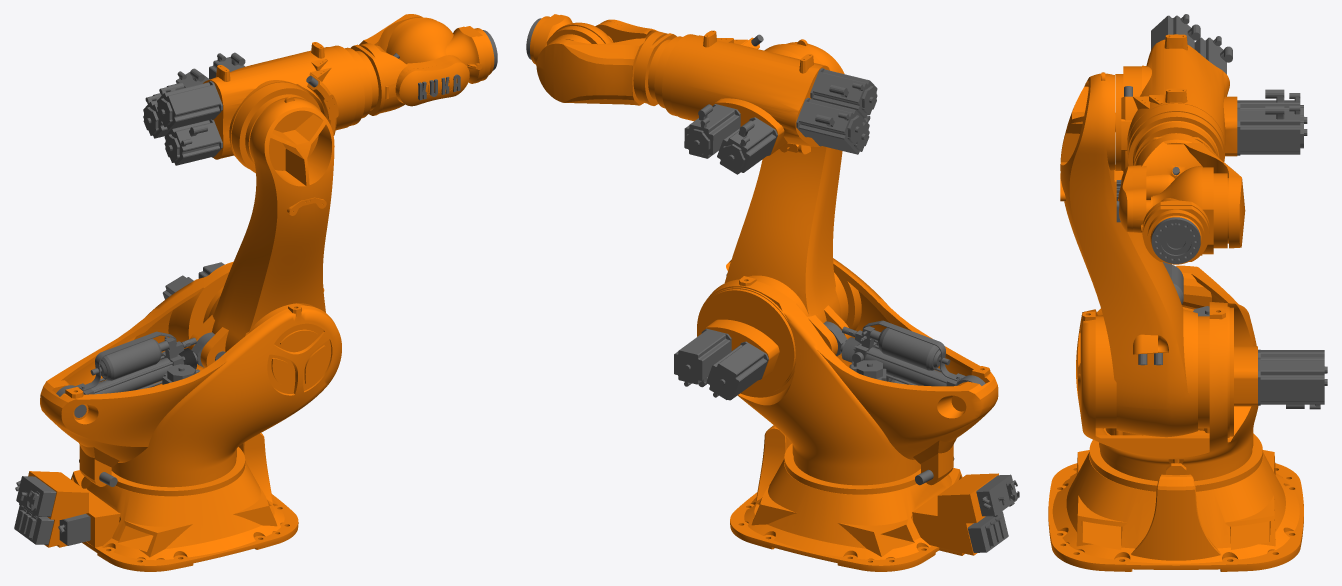
File: 显微镜.obj
3 views of the same model, side by side, from view 1: azimuth 30°, elevation 25°; view 2: azimuth 150°, elevation 25°; view 3: azimuth 270°, elevation 25° (orthographic). The views are drawn at different scales.
Visible parts, largest first — view 1: KUKA-001-kr100机器人robo-kuka-kr1000-titan_網格; view 2: KUKA-001-kr100机器人robo-kuka-kr1000-titan_網格; view 3: KUKA-001-kr100机器人robo-kuka-kr1000-titan_網格.
Part boxes in pixels (x1,y1,x2,y2): KUKA-001-kr100机器人robo-kuka-kr1000-titan_網格: [14, 14, 497, 571]; KUKA-001-kr100机器人robo-kuka-kr1000-titan_網格: [526, 14, 1019, 571]; KUKA-001-kr100机器人robo-kuka-kr1000-titan_網格: [1048, 14, 1327, 571].
Bounding box in the file's own units: 2.13 × 1.91 × 0.9461.
